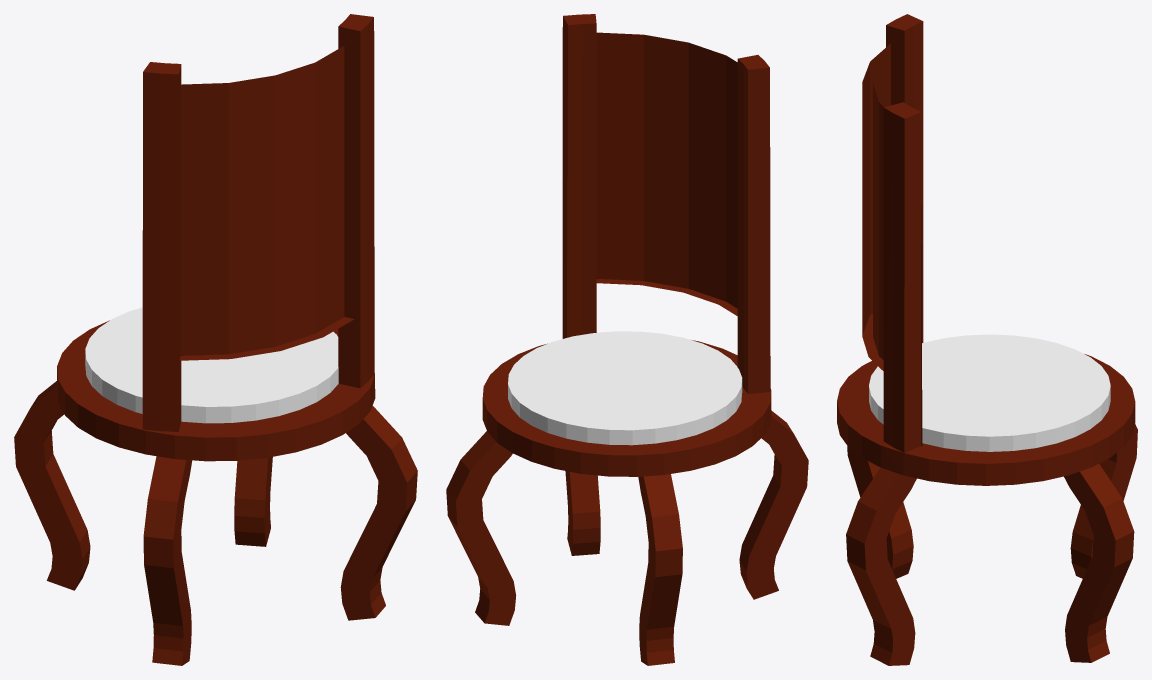
Rendered from luxury_wooden_chair_with_cushion.obj.
3 renders of one model, left to right at view 1: azimuth 30°, elevation 25°; view 2: azimuth 150°, elevation 25°; view 3: azimuth 270°, elevation 25°, orthographic. The views are drawn at different scales.
Parts seen in each view (by area): view 1: Cube.005_Cube.006; view 2: Cube.005_Cube.006; view 3: Cube.005_Cube.006.
Part boxes in pixels (x1=…): Cube.005_Cube.006: x1=14, y1=14, x2=417, y2=665; Cube.005_Cube.006: x1=446, y1=14, x2=808, y2=665; Cube.005_Cube.006: x1=837, y1=14, x2=1137, y2=665.
Size of the model in its own units: 2.17 by 4.44 by 2.19.
Materials: 1 (1 with a texture image).
